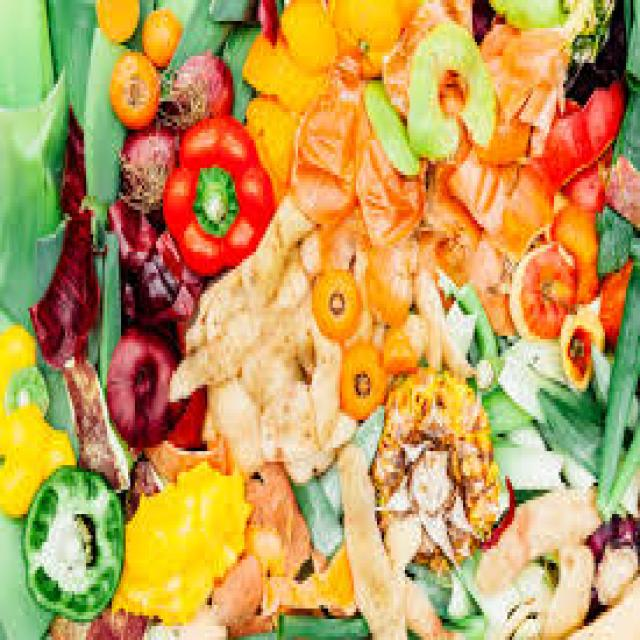food_waste: (113, 36, 620, 582)
